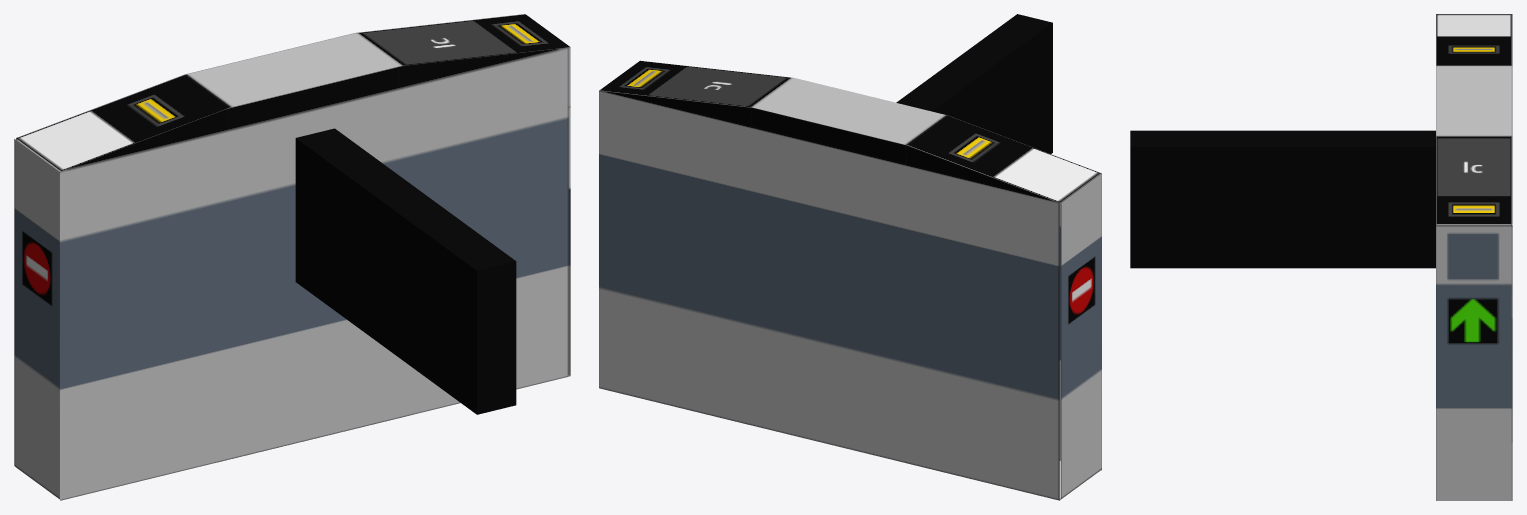
Rendered from ticket_gate.obj.
3 renders of one model, left to right at view 1: azimuth 30°, elevation 25°; view 2: azimuth 150°, elevation 25°; view 3: azimuth 270°, elevation 25°, orthographic. The views are drawn at different scales.
Parts seen in each view (by area): view 1: machine_machine_cube, door_left_door_left_cube; view 2: machine_machine_cube, door_left_door_left_cube; view 3: machine_machine_cube, door_left_door_left_cube.
Boxes of the visible parts, <box> form: machine_machine_cube: <box>14,14,570,500</box>; door_left_door_left_cube: <box>386,195,516,414</box>; machine_machine_cube: <box>599,60,1101,500</box>; door_left_door_left_cube: <box>936,14,1052,153</box>; machine_machine_cube: <box>1283,14,1512,500</box>; door_left_door_left_cube: <box>1130,130,1283,268</box>.
Size of the model in its own units: 1.3 by 0.855 by 1.
